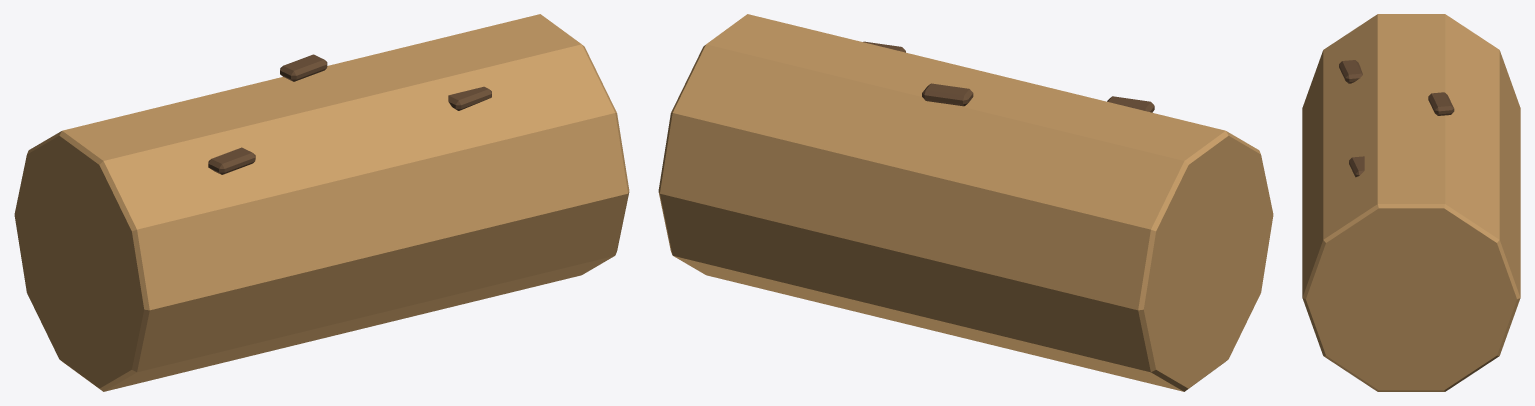
The model's file is b16_discarded_bottle_cork.glb.
3 renders of one model, left to right at view 1: azimuth 30°, elevation 25°; view 2: azimuth 150°, elevation 25°; view 3: azimuth 270°, elevation 25°, orthographic. The views are drawn at different scales.
Visible parts, largest first — view 1: b16_discarded_bottle_cork; view 2: b16_discarded_bottle_cork; view 3: b16_discarded_bottle_cork.
Part boxes in pixels (x1,y1,x2,y2): b16_discarded_bottle_cork: (14,14,629,391); b16_discarded_bottle_cork: (658,14,1273,391); b16_discarded_bottle_cork: (1302,14,1520,391).
Size of the model in its own units: 0.046 by 0.022 by 0.022.
